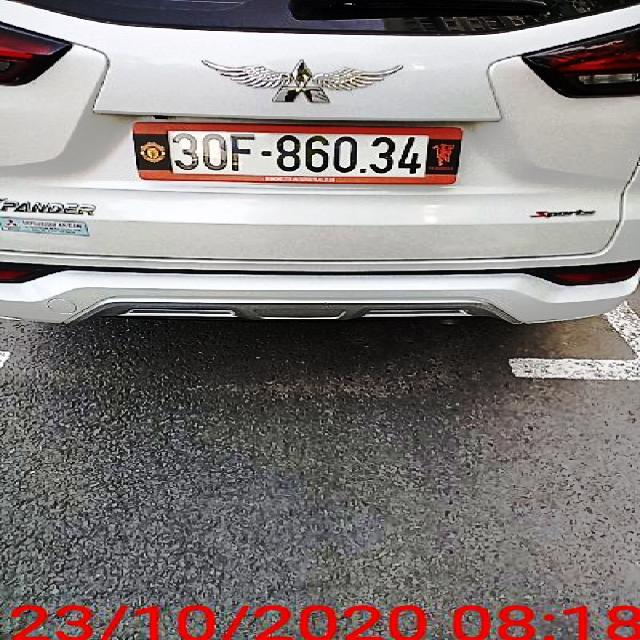license_plate: (171, 136, 432, 182)
